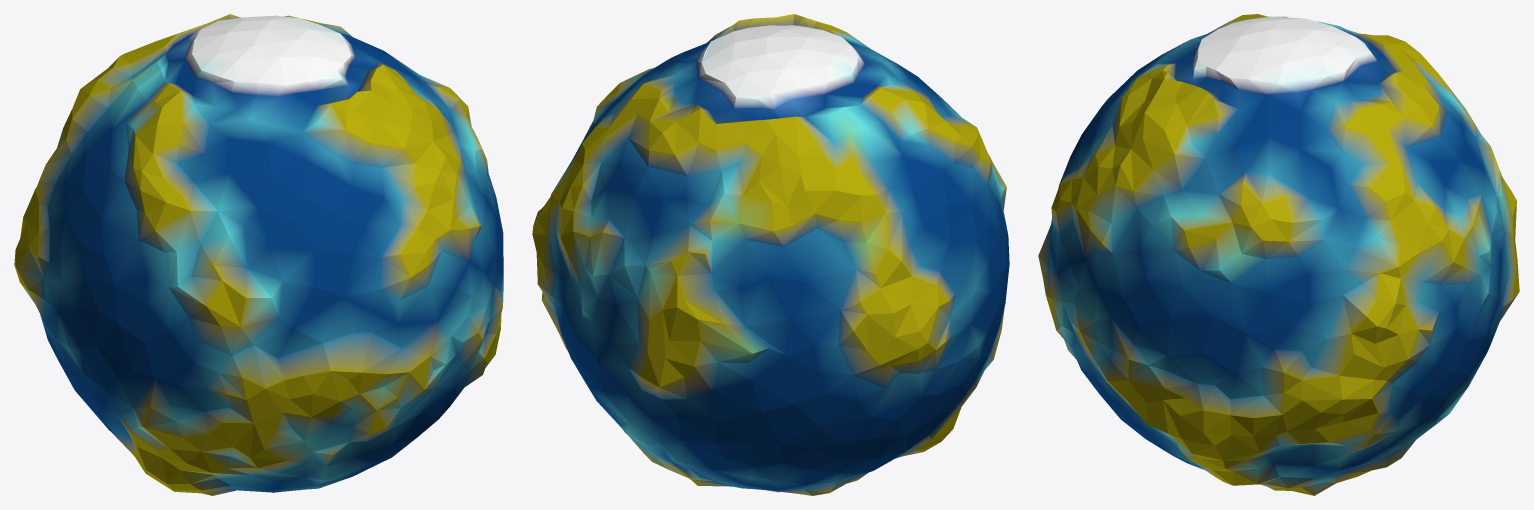
File: planet_22.fbx
The picture shows the model from 3 angles, left to right: view 1: azimuth 30°, elevation 25°; view 2: azimuth 150°, elevation 25°; view 3: azimuth 270°, elevation 25°; orthographic projection. The views are drawn at different scales.
Visible parts, largest first — view 1: file1; view 2: file1; view 3: file1.
Boxes of the visible parts, left/top/right/bottom form: file1: left=14, top=14, right=503, bottom=495; file1: left=532, top=14, right=1009, bottom=495; file1: left=1038, top=14, right=1519, bottom=495.
Size of the model in its own units: 2.02 by 2.05 by 2.09.
